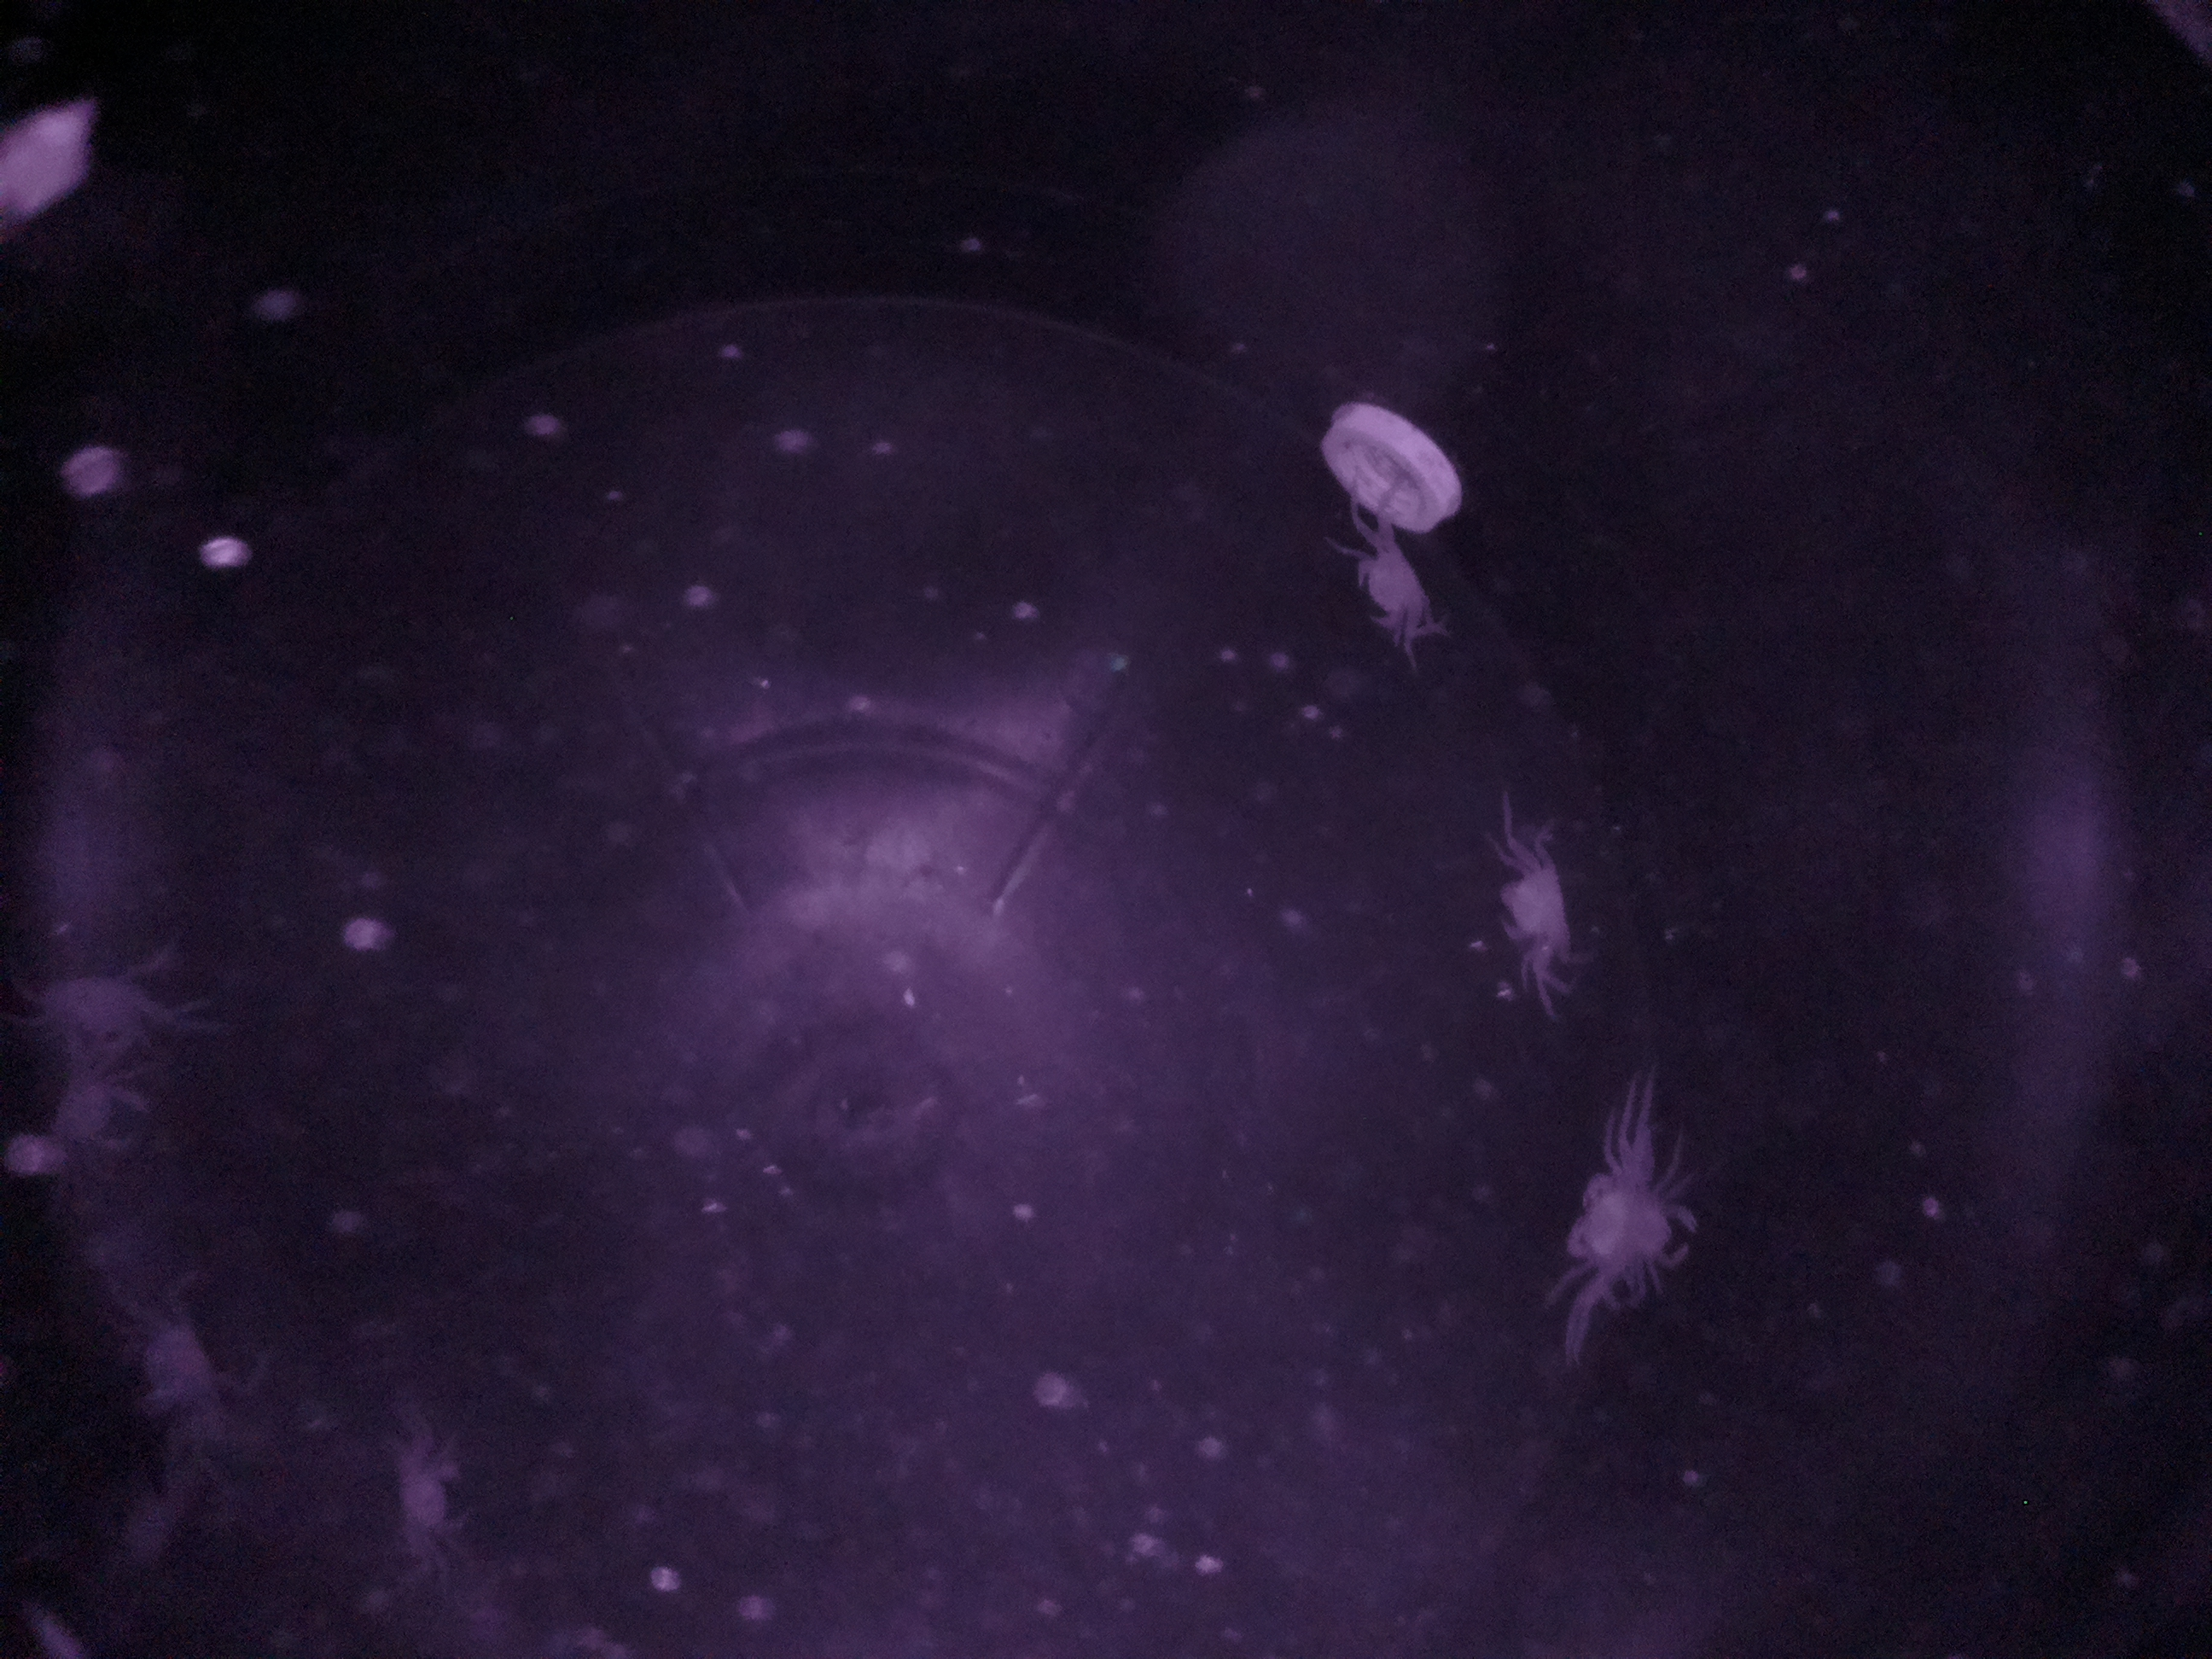Crab: (1555, 1141, 1693, 1314), (1475, 842, 1587, 974), (1341, 518, 1446, 659)
